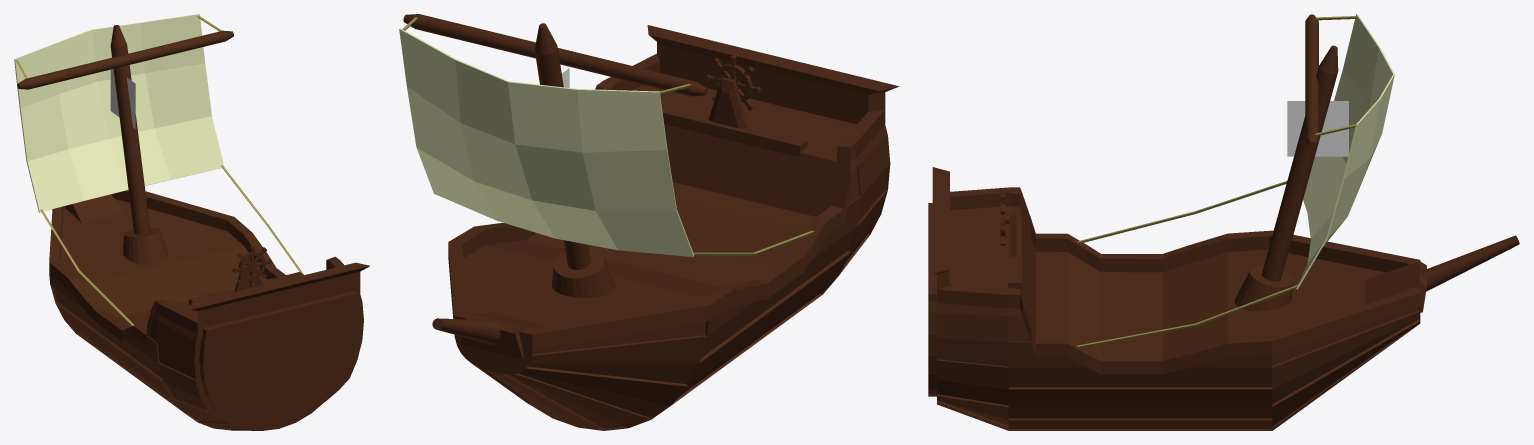
File: food_boat.fbx
3 views of the same model, side by side, from view 1: azimuth 30°, elevation 25°; view 2: azimuth 150°, elevation 25°; view 3: azimuth 270°, elevation 25° (orthographic). The views are drawn at different scales.
Parts seen in each view (by area): view 1: Body, Sail, Mast, Rope bottom, Plane; view 2: Body, Sail, Mast, Rope bottom; view 3: Body, Sail, Mast, Plane, Rope bottom.
Boxes of the visible parts, left/top/right/bottom form: Body: left=49, top=190, right=369, bottom=430; Sail: left=14, top=14, right=224, bottom=212; Mast: left=17, top=25, right=233, bottom=264; Rope bottom: left=40, top=165, right=303, bottom=325; Plane: left=110, top=69, right=135, bottom=128; Body: left=432, top=25, right=899, bottom=430; Sail: left=399, top=28, right=694, bottom=257; Mast: left=403, top=14, right=707, bottom=297; Rope bottom: left=693, top=230, right=814, bottom=255; Body: left=928, top=167, right=1519, bottom=430; Sail: left=1296, top=14, right=1394, bottom=289; Mast: left=1234, top=14, right=1338, bottom=311; Plane: left=1287, top=101, right=1348, bottom=156; Rope bottom: left=1077, top=181, right=1297, bottom=347.
Size of the model in its own units: 982 by 1340 by 1924.
